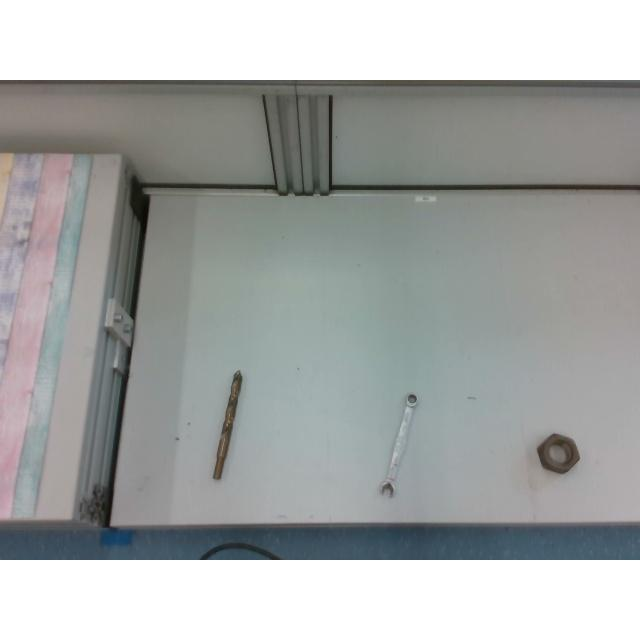Drill: (214, 369, 242, 478)
M30: (537, 433, 579, 473)
Wrench: (378, 393, 418, 497)
